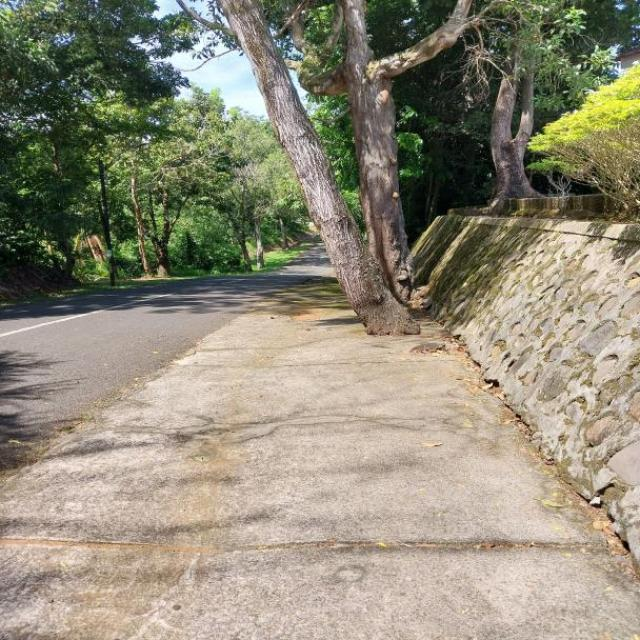tree ahead at: (222, 0, 436, 337)
